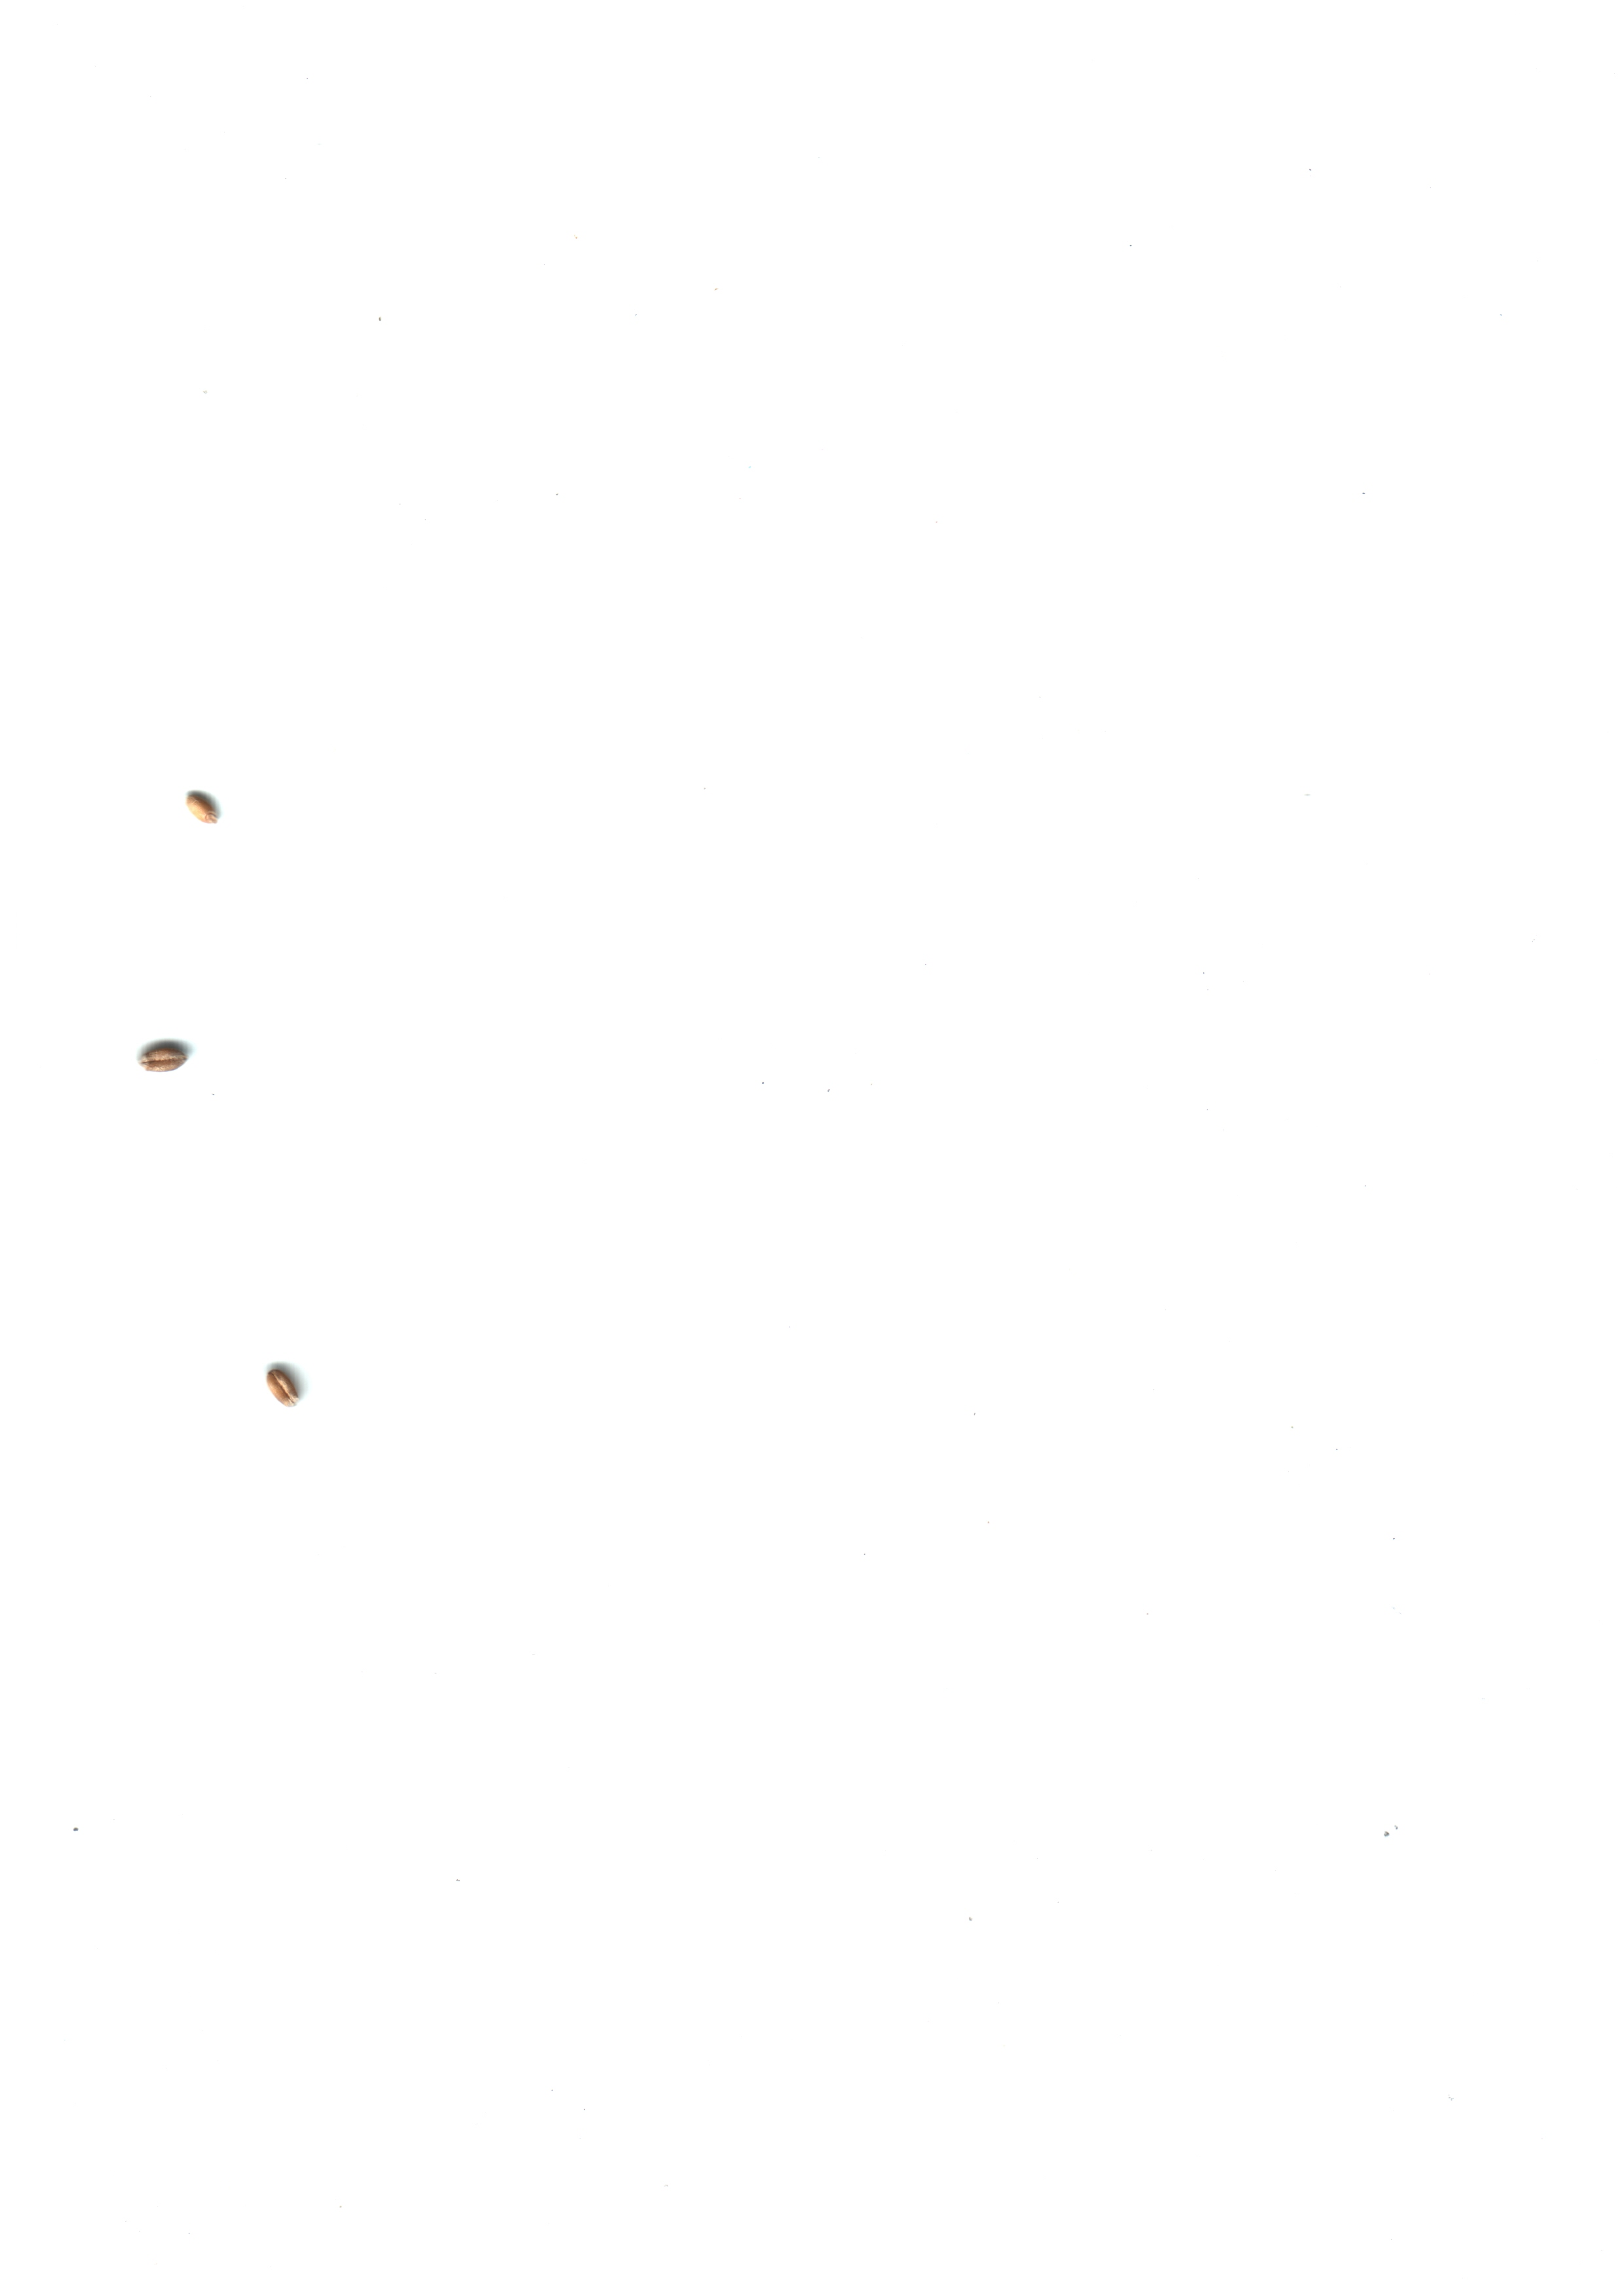grains_2_5mm: (247, 1339, 328, 1428), (128, 1008, 209, 1097), (161, 762, 242, 852)
